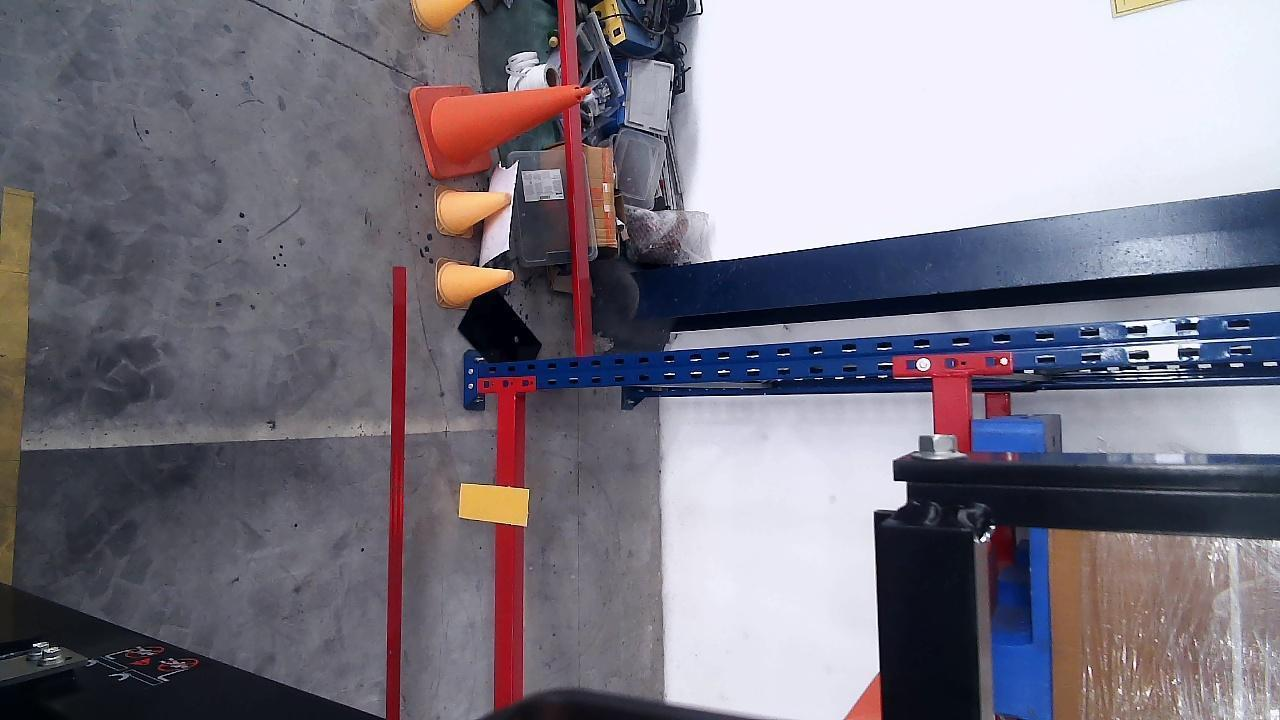red_line: (389, 267, 404, 720)
yellow_line: (0, 187, 36, 588)
